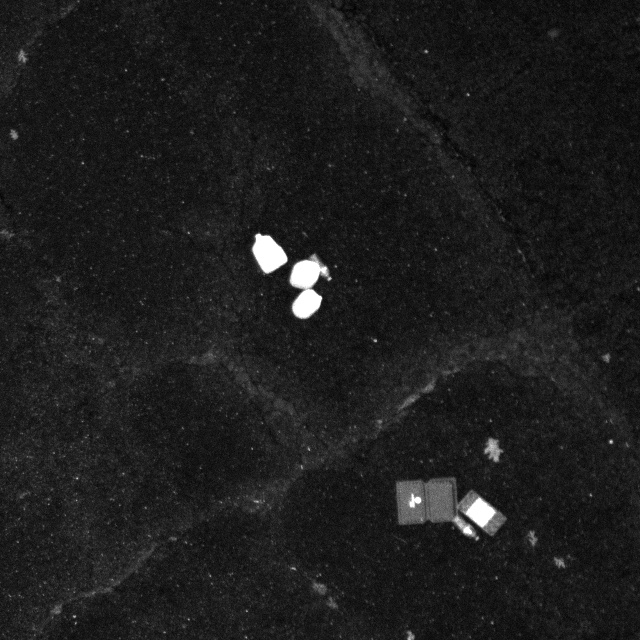bottle: (447, 514, 485, 544), (308, 249, 338, 284)
can: (249, 230, 290, 276), (288, 285, 325, 322), (285, 259, 323, 292)
container: (390, 473, 463, 530), (453, 485, 511, 537)
